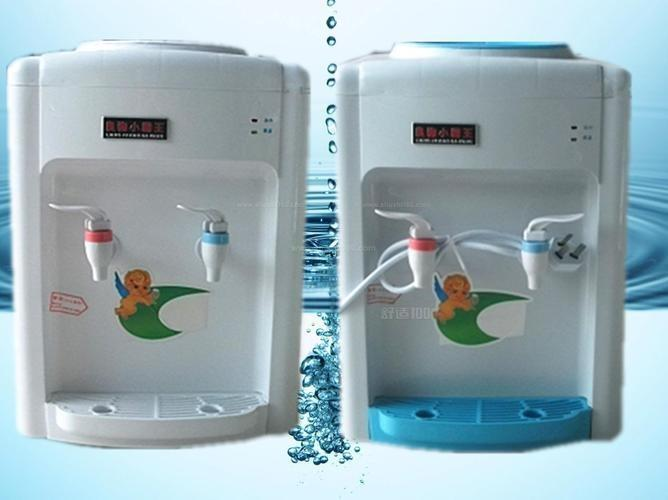Dispenser: (5, 38, 310, 447), (334, 40, 632, 452)
